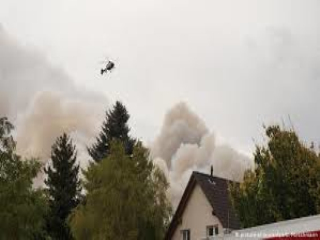smoke: (2, 49, 96, 166), (144, 91, 254, 184)
